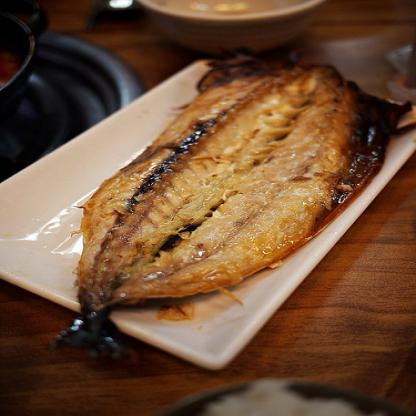Peixe: (23, 47, 416, 367)
